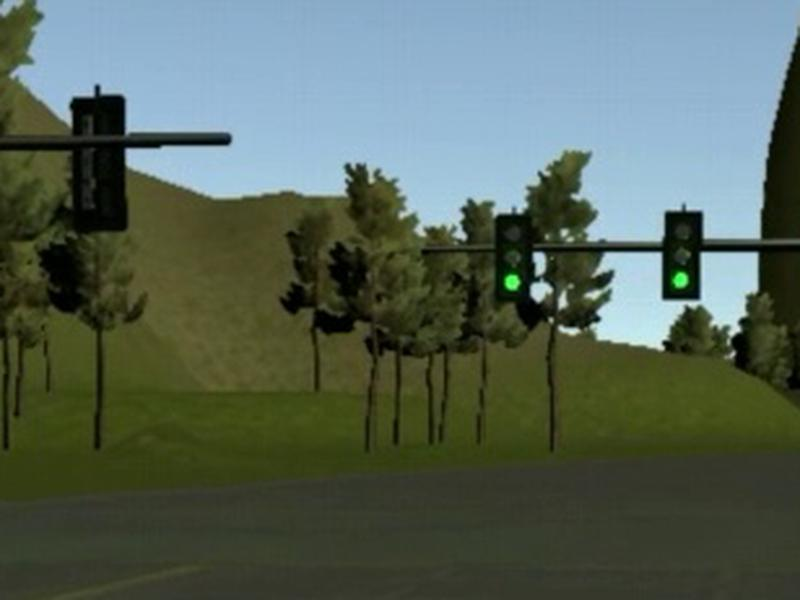Green: (661, 210, 703, 300), (494, 214, 532, 302)
